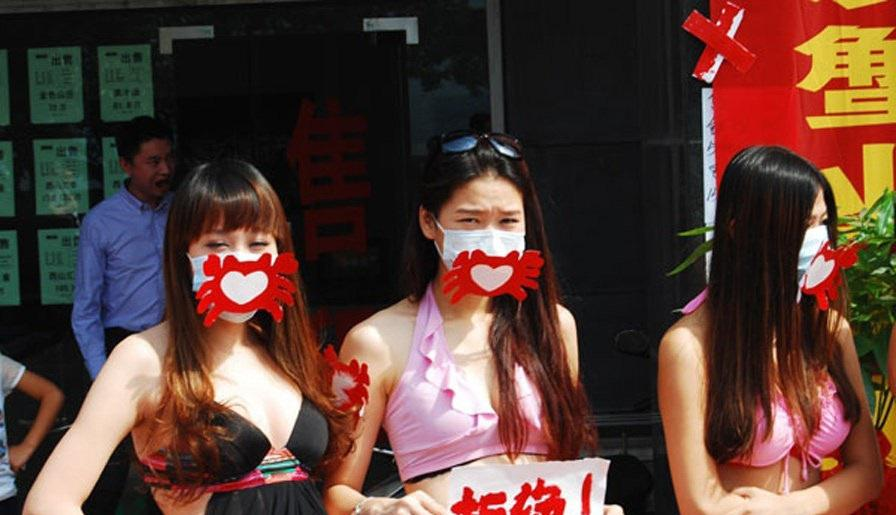NONE: (138, 151, 176, 200)
OK: (189, 224, 288, 323), (438, 200, 528, 290), (764, 204, 834, 284)
